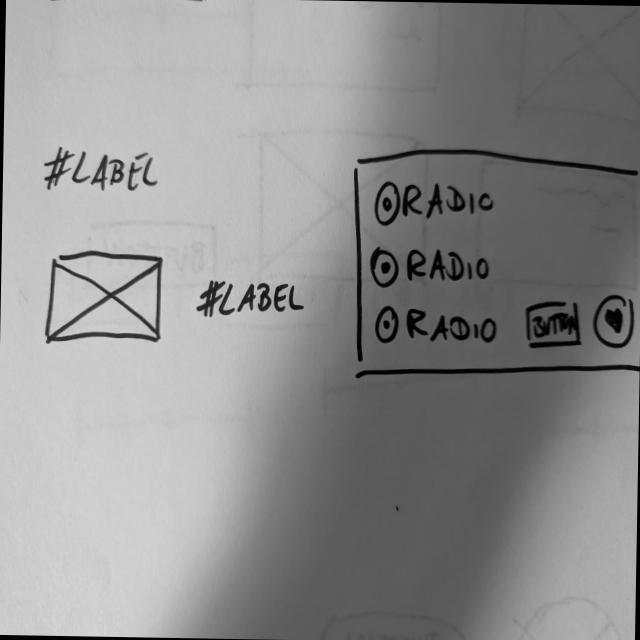button: (524, 297, 586, 355)
container: (349, 146, 640, 384)
icon-button: (592, 294, 637, 351)
image: (44, 249, 167, 348)
label: (43, 145, 163, 197), (193, 277, 310, 326)
radio: (373, 178, 404, 227), (370, 247, 403, 288), (374, 304, 403, 345)
